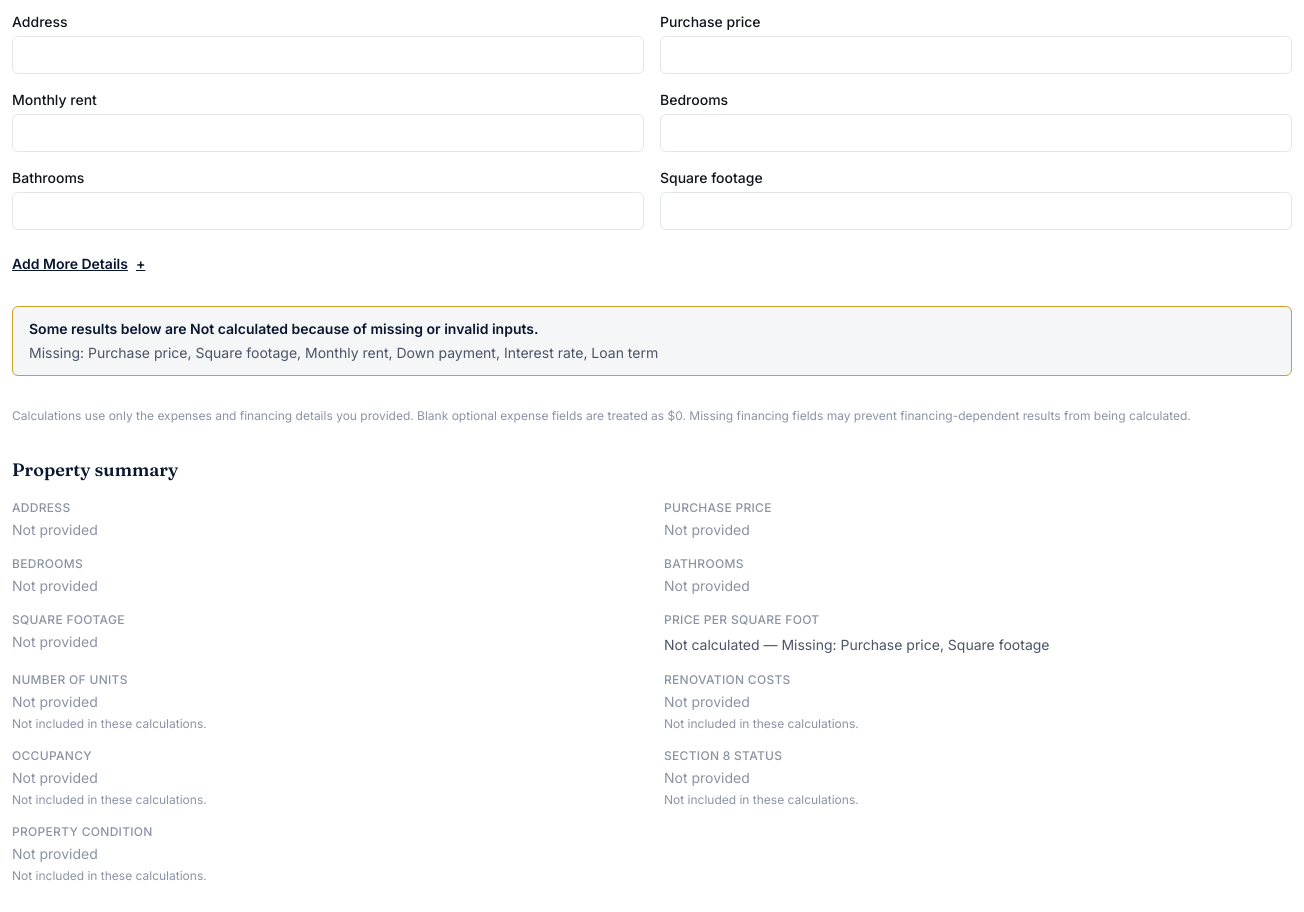
ManualDealEntryForm — required fields › rejects a non-positive purchase price with a specific message
Step 1. Type "-5" into the number field labelled "Purchase price" → (976, 55), box [660,36,1292,74]
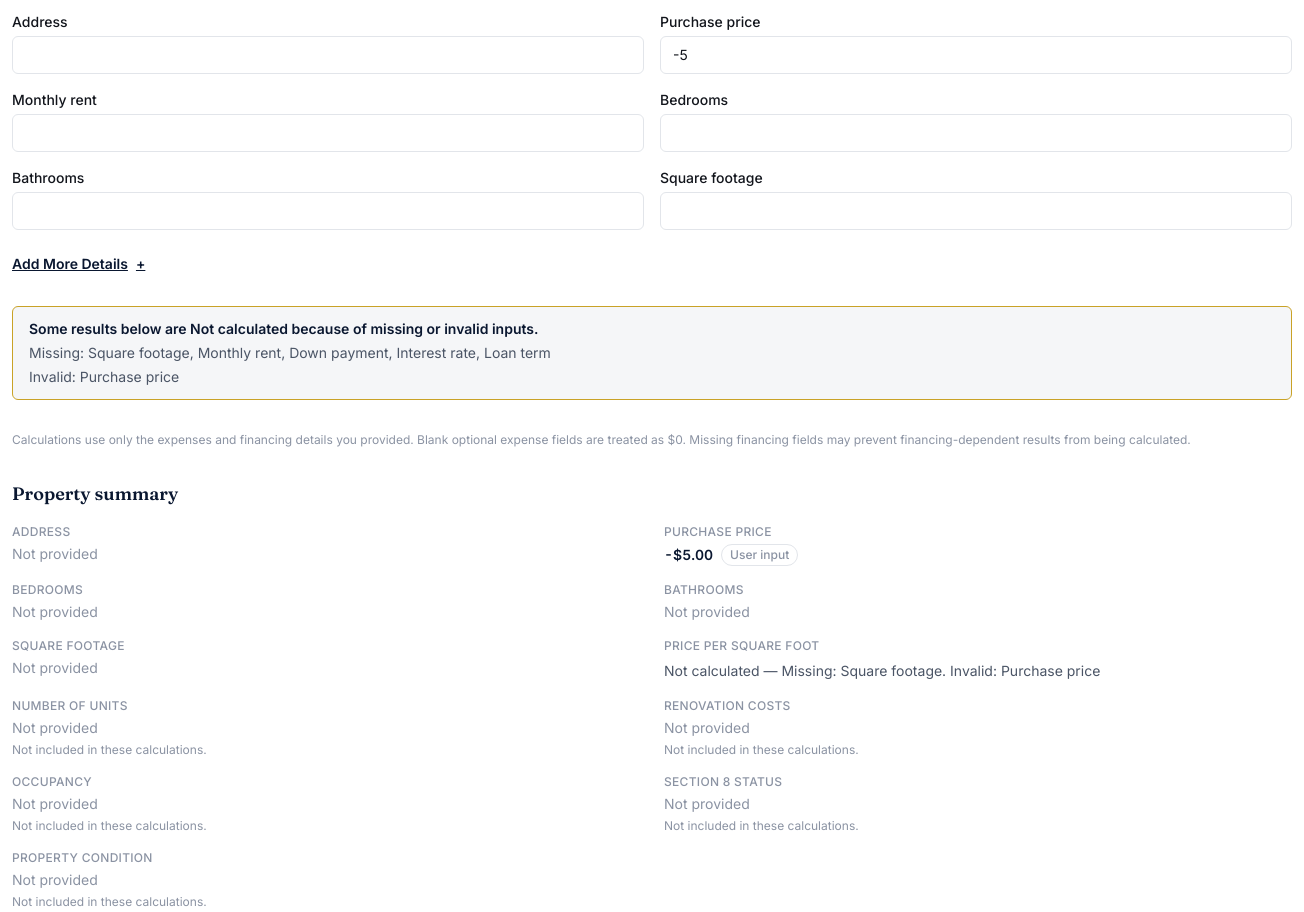
Step 2. Leave the number field labelled "Purchase price", box [660,36,1292,74]
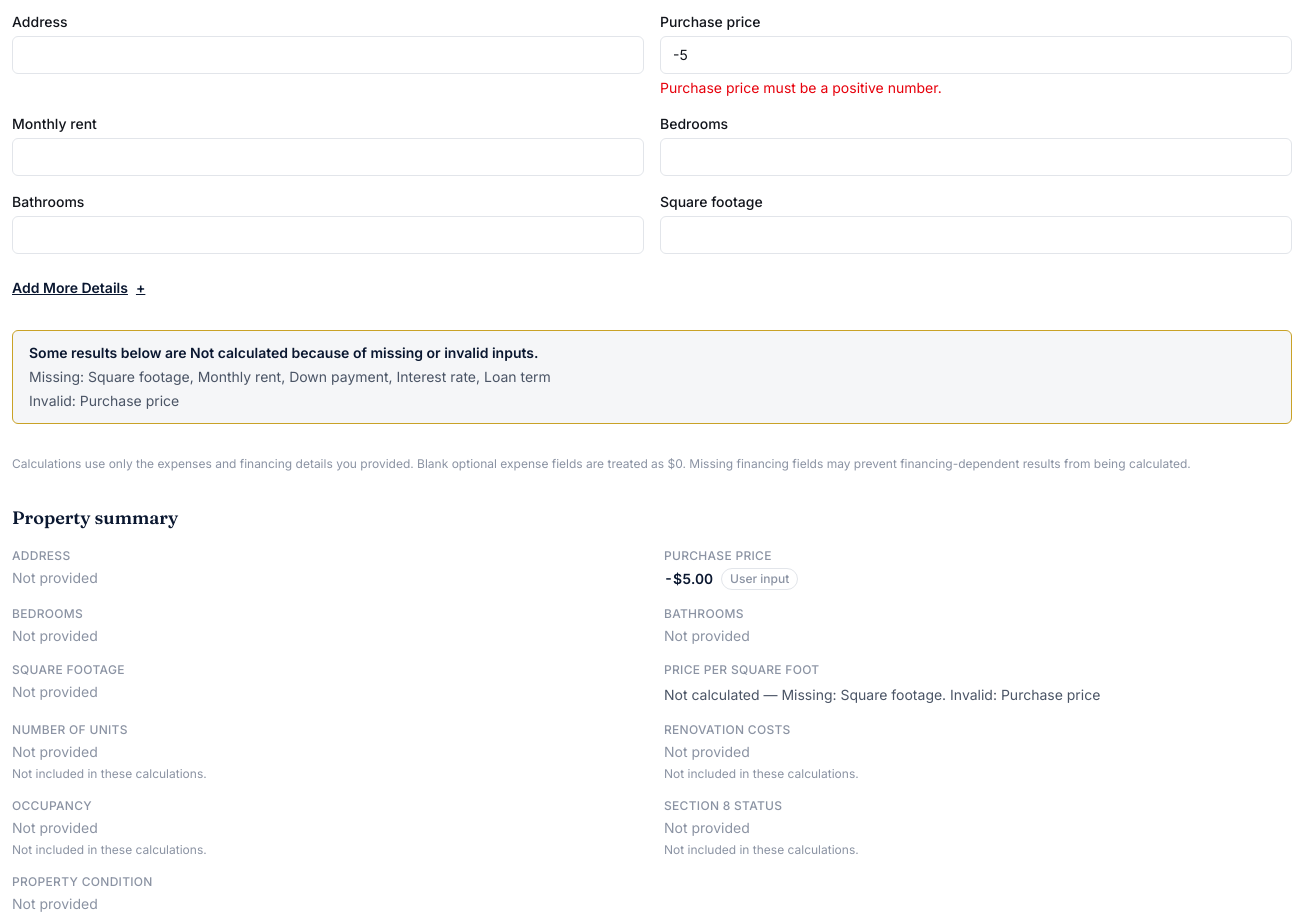
Now the text "Purchase price must be a positive number." is shown, box [660,79,942,96]
